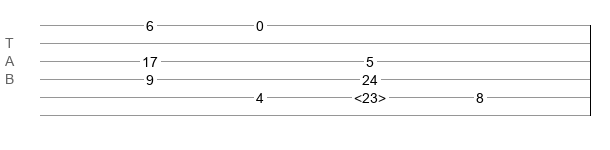0: (256, 18, 264, 28)
17: (142, 54, 158, 64)
24: (362, 72, 378, 82)
4: (256, 90, 264, 100)
5: (366, 54, 374, 64)
6: (146, 18, 154, 28)
8: (476, 90, 484, 100)
9: (146, 72, 154, 82)
harmonic: (354, 90, 386, 100)
